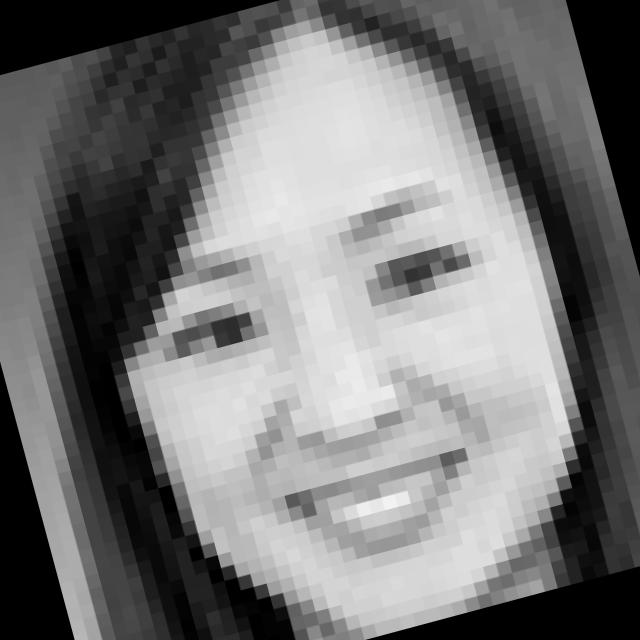happy: (139, 176, 558, 601)
